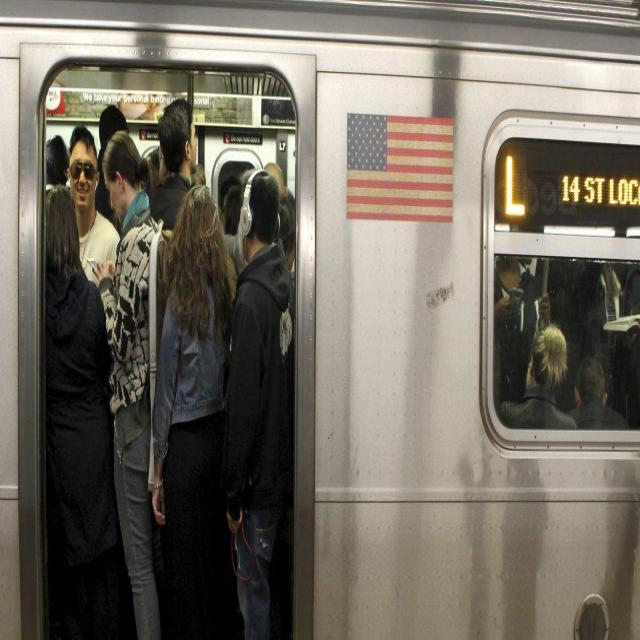body: (33, 99, 301, 264), (90, 128, 176, 639), (151, 181, 234, 639), (221, 167, 296, 639), (42, 183, 116, 640), (496, 202, 640, 431), (66, 123, 121, 288), (147, 98, 200, 232)
